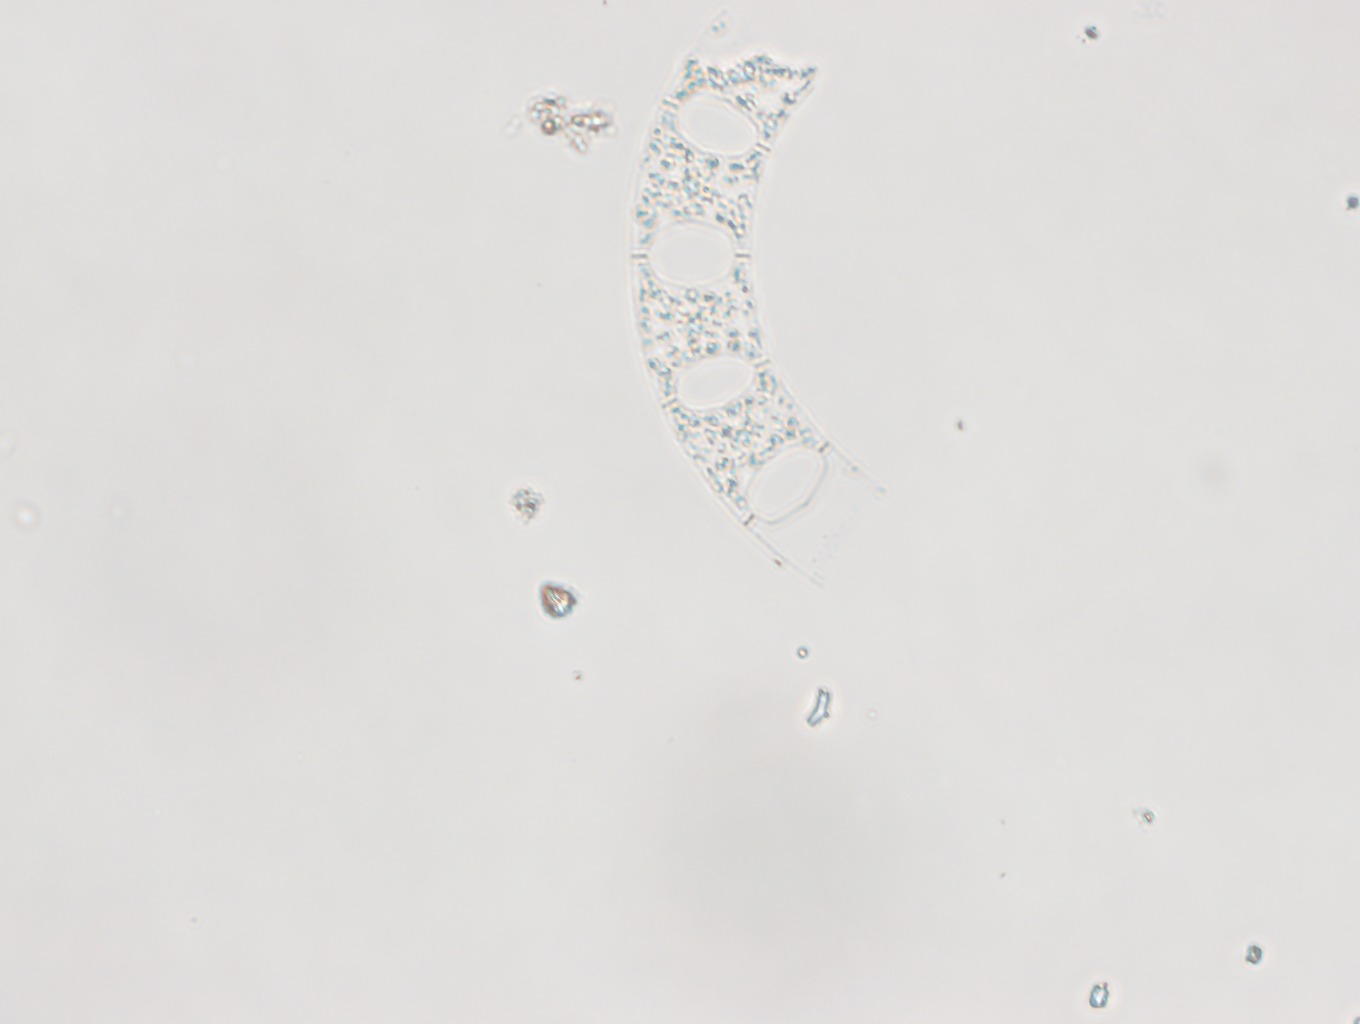eucampia: (627, 45, 885, 583)
